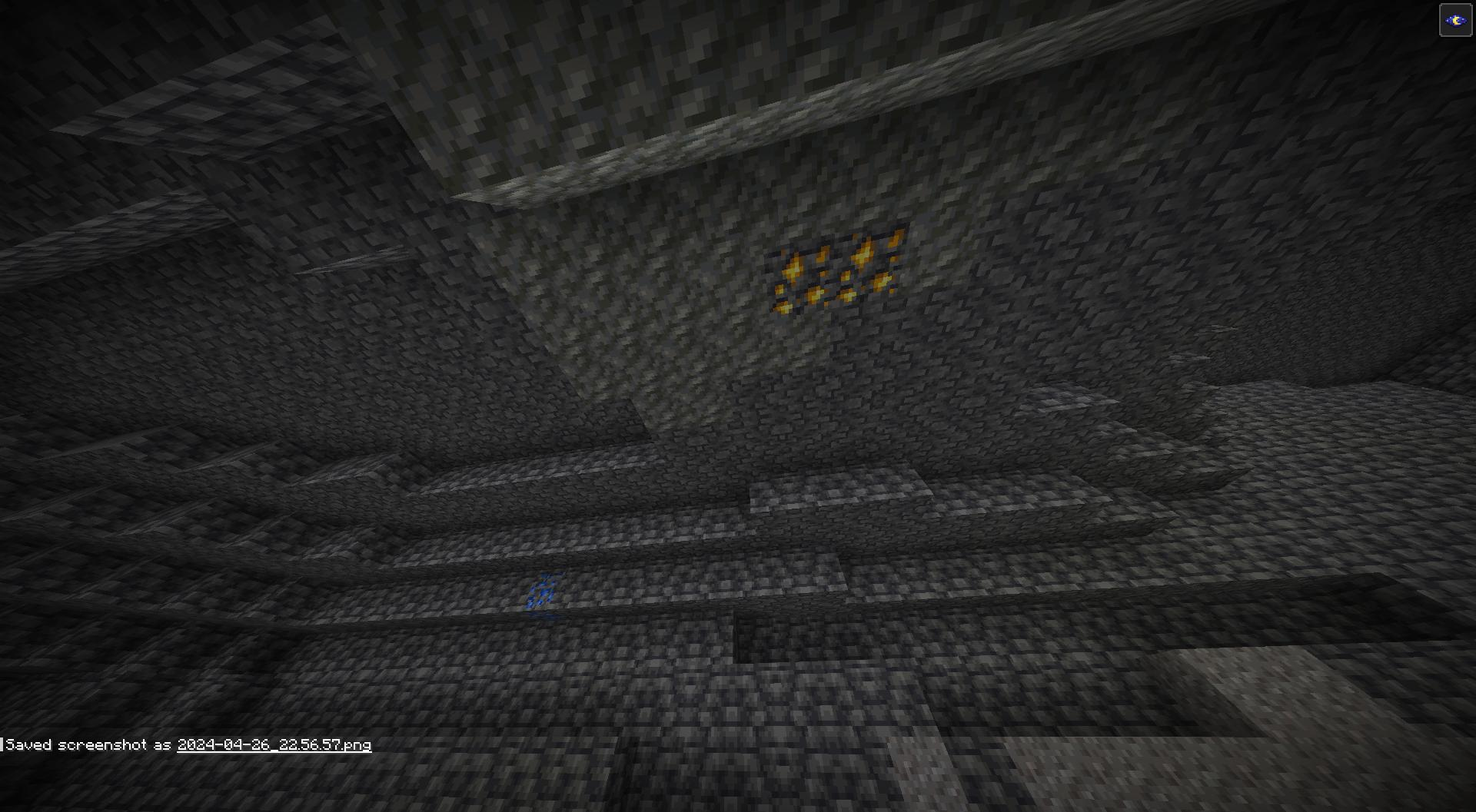gold ore: (832, 221, 906, 306), (758, 235, 831, 314)
